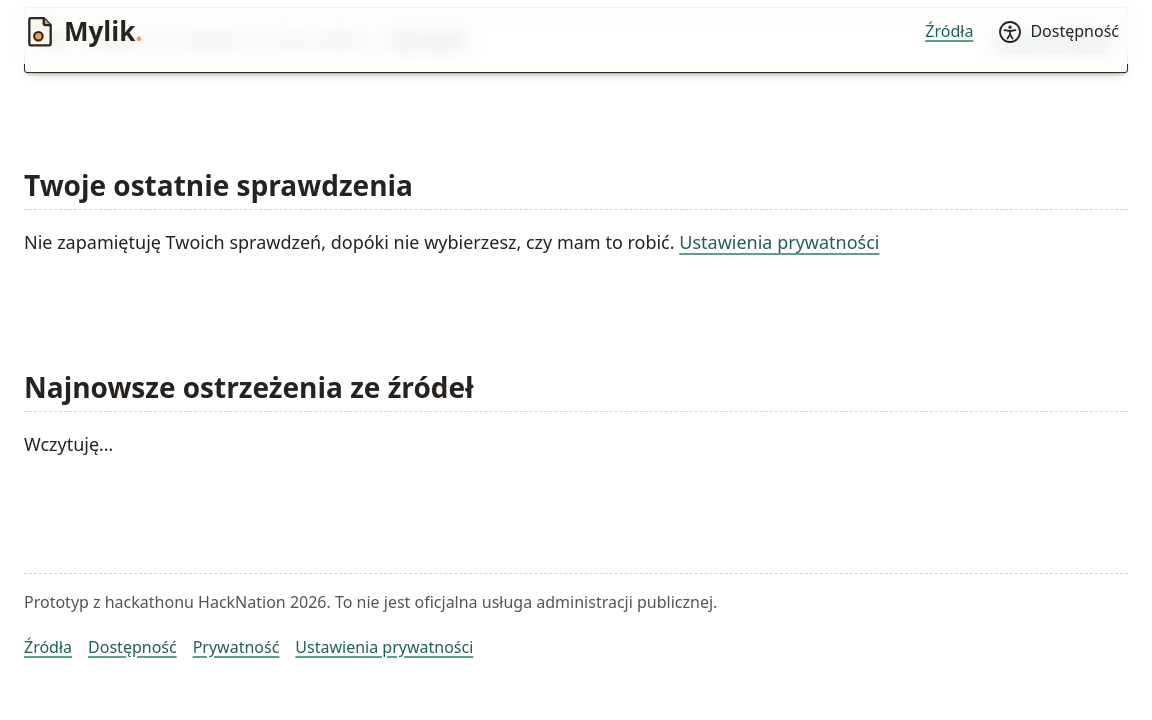
stopka i nagłówek › odnośniki stopki prowadzą do stron bez przeładowania
(page scrolled)
Click the link "Dostępność". click: (132, 647)
box: [88,636,177,658]
(page scrolled)
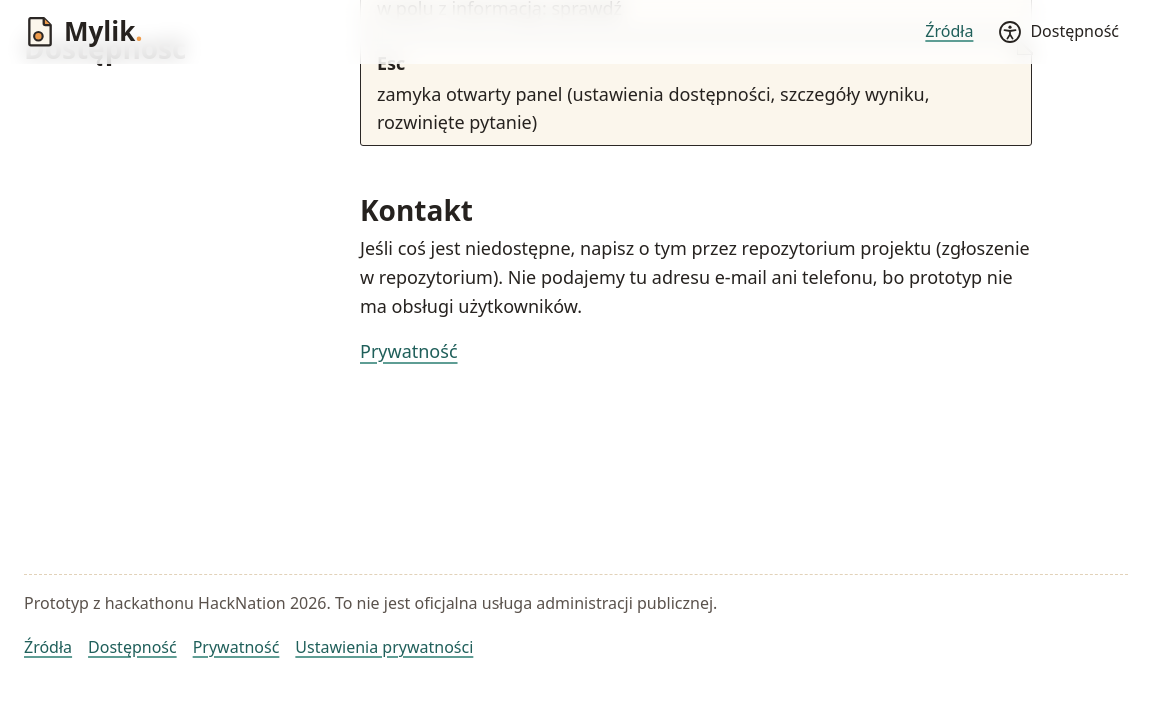
Check: the heading "Dostępność" is shown, box [24,29,186,67]
Click the link "Prywatność" next to "Ustawienia prywatności". click: (236, 647)
box: [193,636,279,658]
(page scrolled)
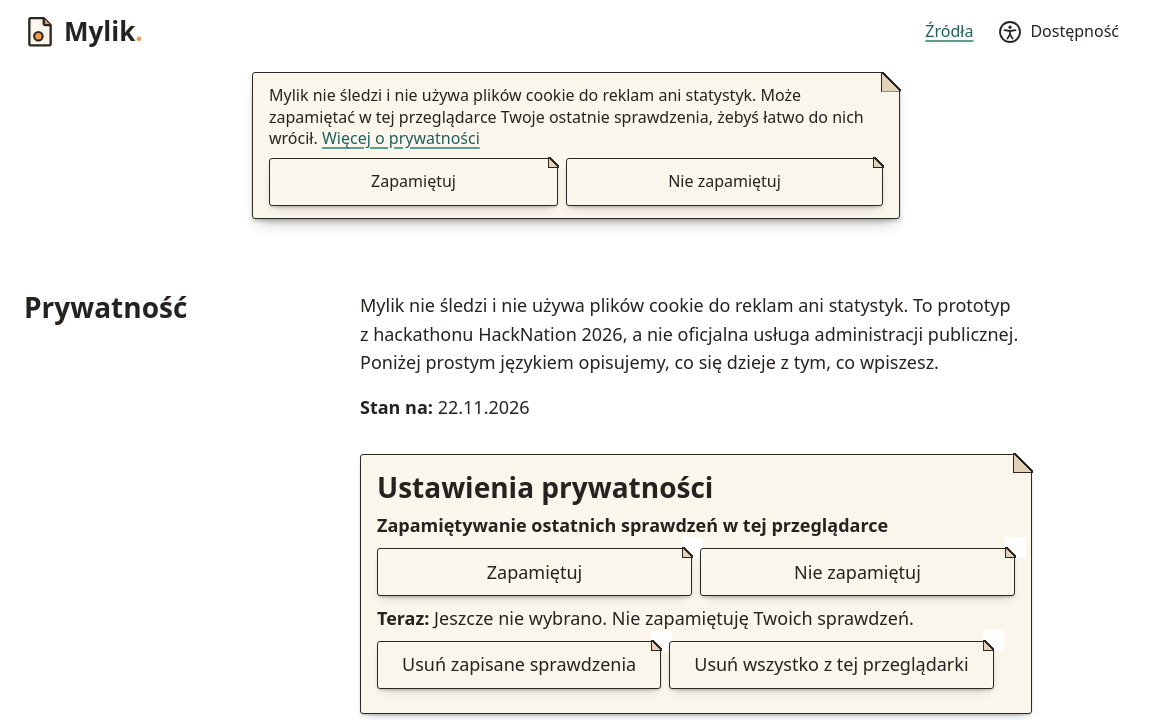
Check: the heading "Prywatność" is shown, box [24,288,187,326]
